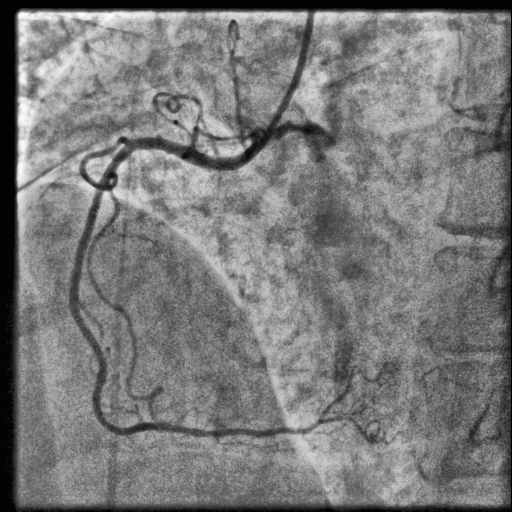pborca: (320, 369, 353, 419)
pda: (322, 416, 371, 442)
rca: (68, 132, 320, 437)
